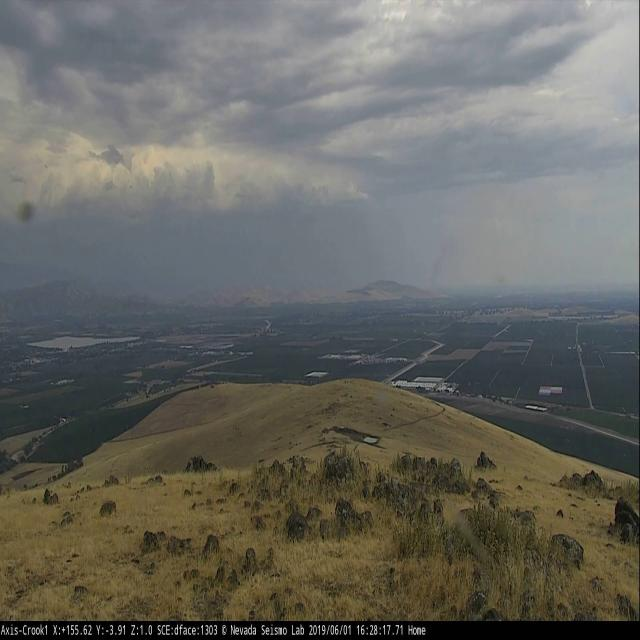smoke: (423, 241, 450, 291)
